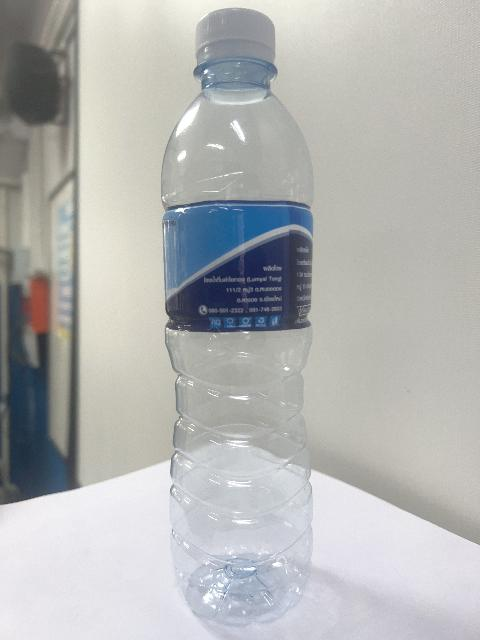bottle: (162, 9, 313, 625)
